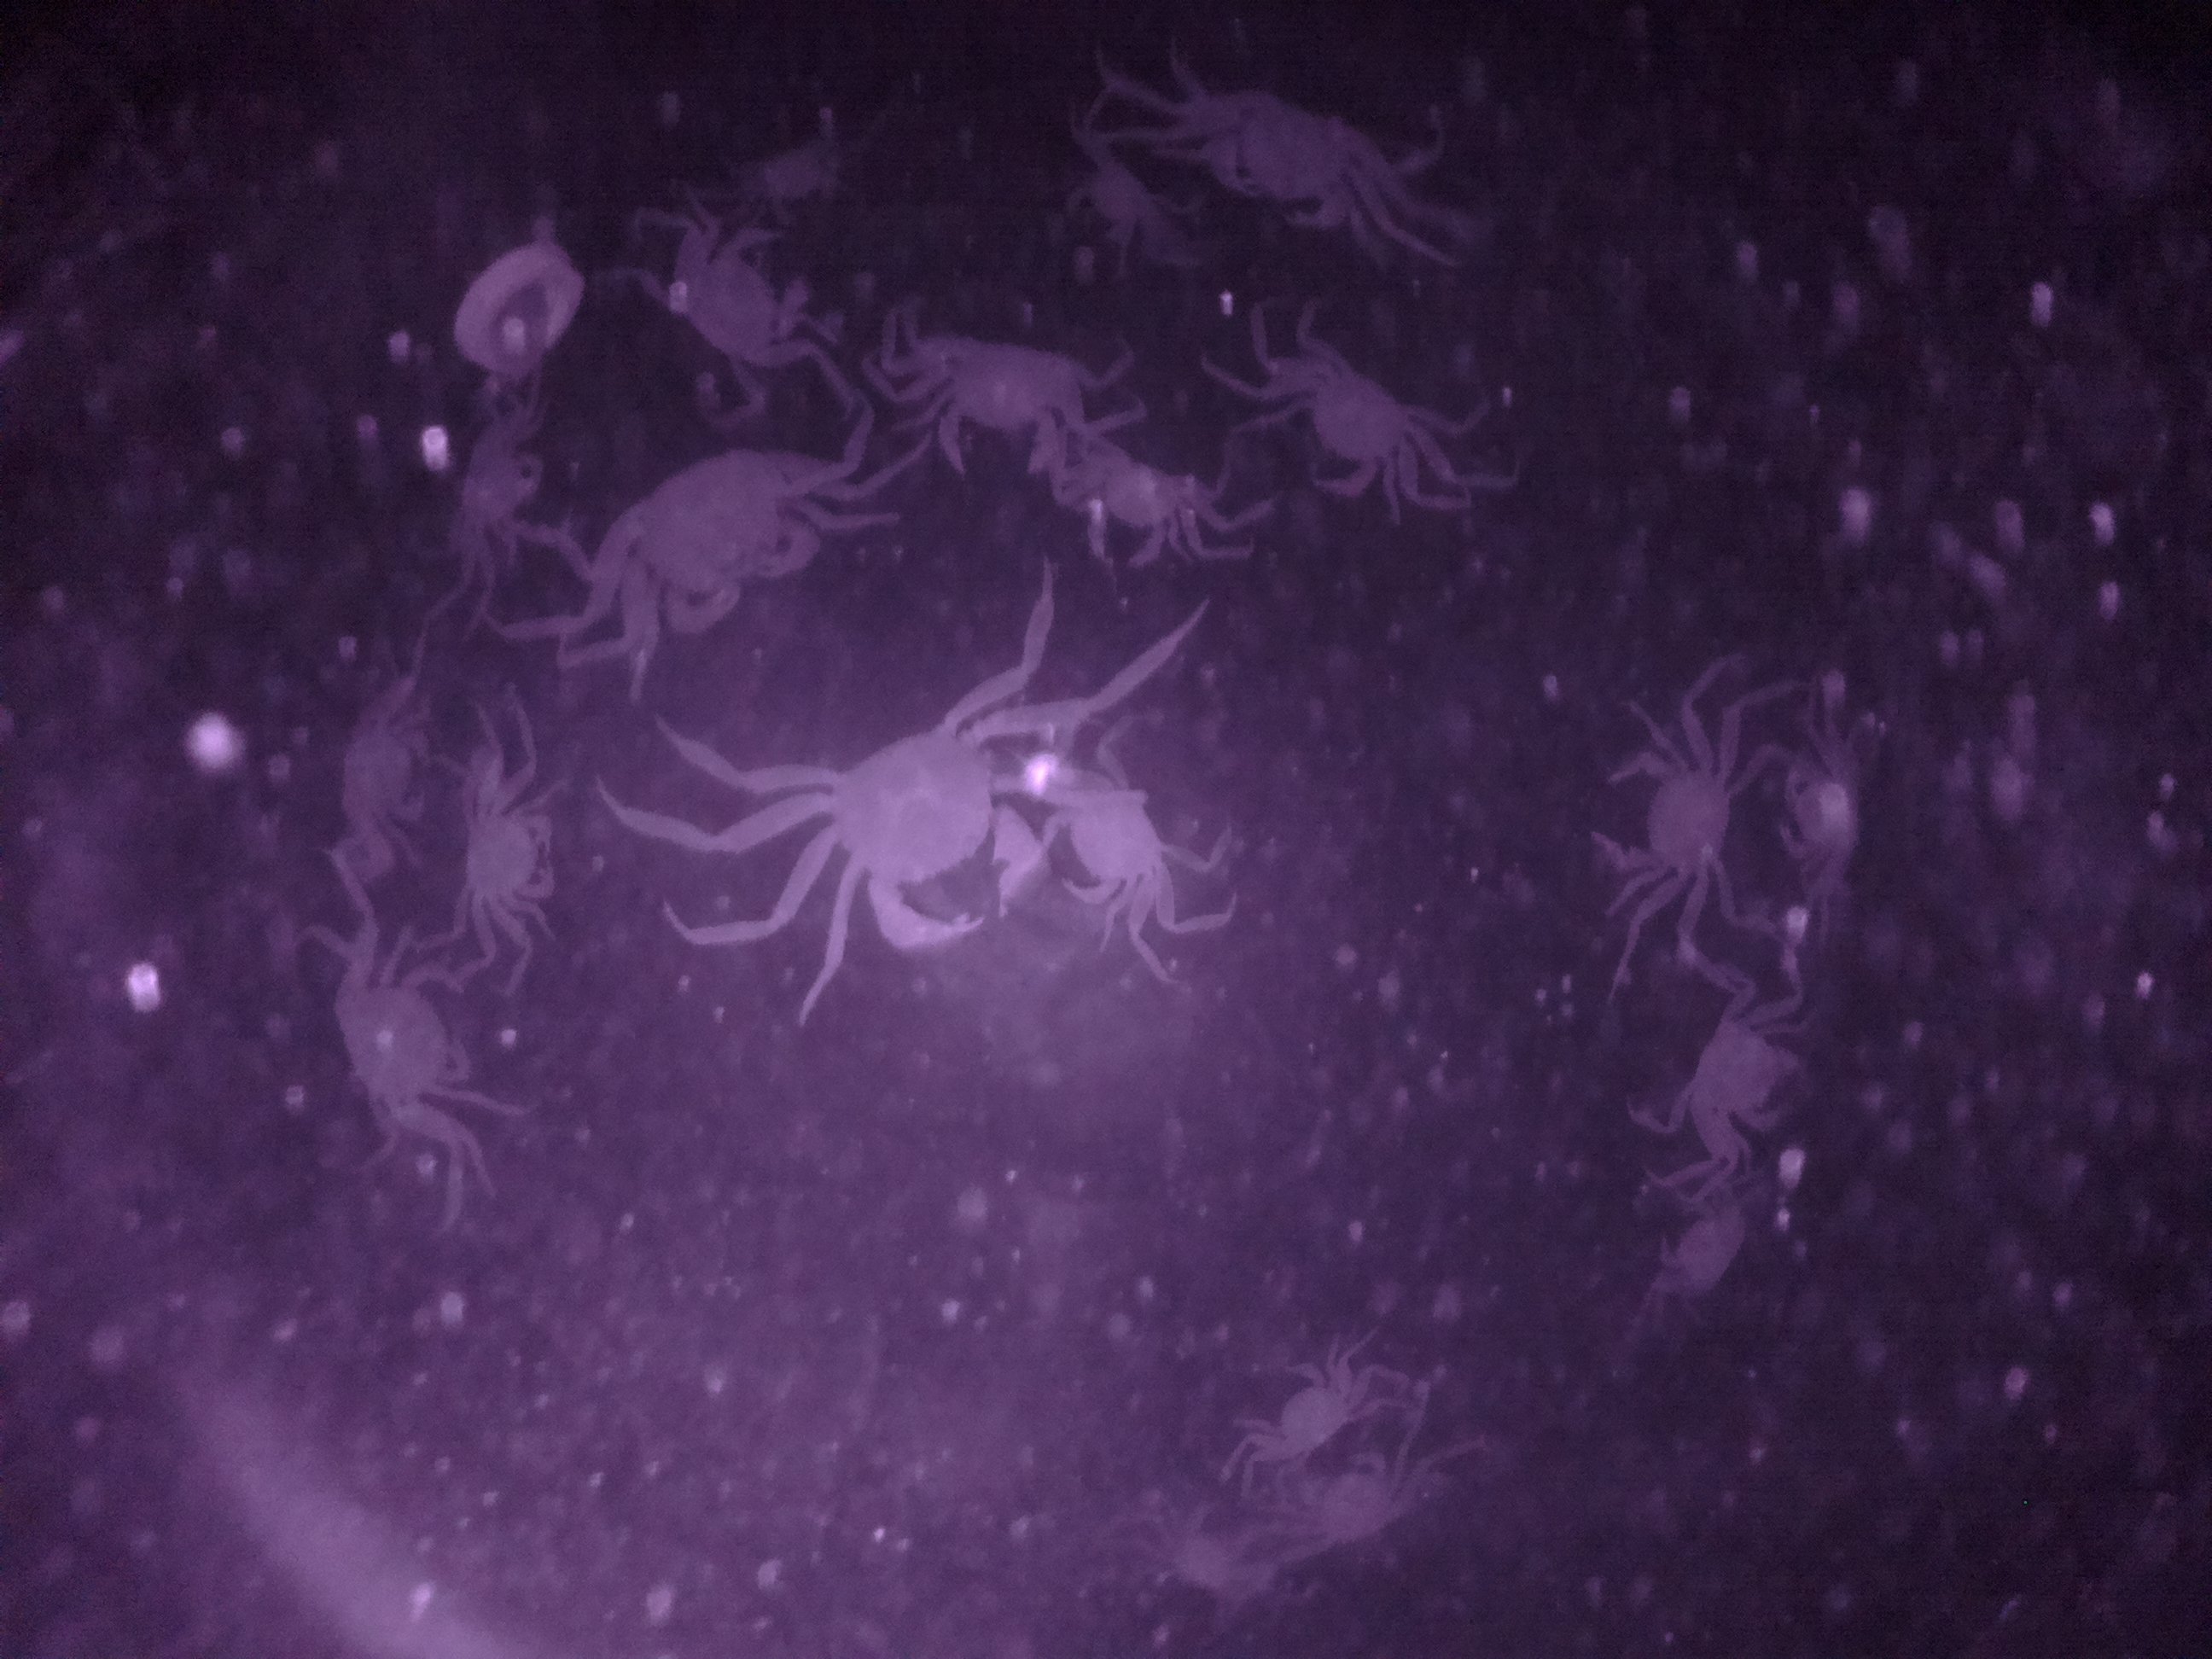Crab: (799, 704, 1055, 972), (596, 437, 840, 645), (1167, 63, 1413, 251), (312, 955, 491, 1150), (909, 308, 1092, 490), (1580, 721, 1756, 910), (1258, 349, 1449, 511), (1663, 995, 1818, 1152), (301, 683, 435, 847), (1073, 441, 1217, 570), (453, 786, 585, 924), (1233, 1349, 1362, 1473), (1646, 1182, 1747, 1330)
